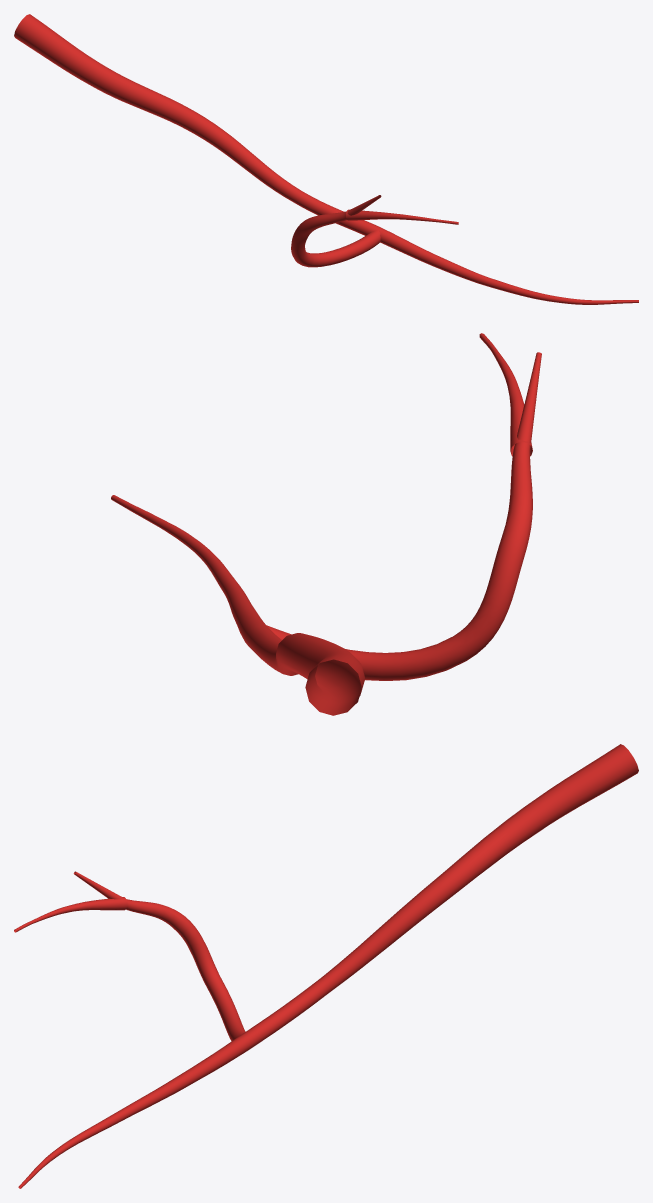
File: circulatorio-submental-artery-r.glb
3 renders of one model, top to bottom at view 1: azimuth 30°, elevation 25°; view 2: azimuth 150°, elevation 25°; view 3: azimuth 270°, elevation 25°, orthographic. The views are drawn at different scales.
Visible parts, largest first — view 1: Submental artery.r; view 2: Submental artery.r; view 3: Submental artery.r.
Boxes of the visible parts, bbox=[...] form: Submental artery.r: bbox=[14, 14, 638, 304]; Submental artery.r: bbox=[111, 333, 541, 715]; Submental artery.r: bbox=[14, 744, 638, 1188].
Size of the model in its own units: 0.0306 by 0.015 by 0.0367.
